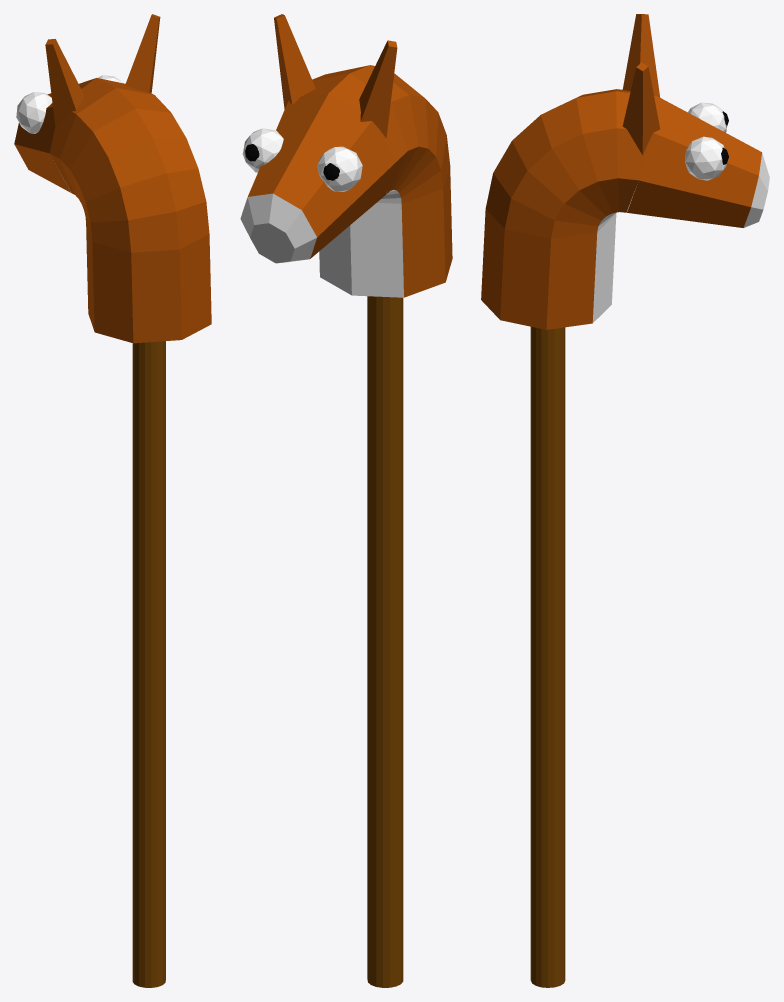
File: HobbyHorse.fbx
The picture shows the model from 3 angles, left to right: view 1: azimuth 30°, elevation 25°; view 2: azimuth 150°, elevation 25°; view 3: azimuth 270°, elevation 25°; orthographic projection. The views are drawn at different scales.
Visible parts, largest first — view 1: Neck, Handle, Ears, Head, Eyes; view 2: Handle, Neck, Head, OffColorParts, Ears, Eyes; view 3: Neck, Handle, Head, Ears, OffColorParts, Eyes.
Boxes of the visible parts, box(x1,y1,x2,y2) form: Neck: box(49, 78, 211, 343); Handle: box(132, 341, 165, 987); Ears: box(45, 14, 160, 129); Head: box(14, 78, 95, 192); Eyes: box(16, 75, 122, 133); Handle: box(367, 296, 403, 987); Neck: box(301, 65, 452, 297); Head: box(248, 93, 396, 258); OffColorParts: box(240, 189, 403, 297); Ears: box(274, 14, 397, 138); Eyes: box(242, 128, 362, 191); Neck: box(481, 89, 655, 329); Handle: box(530, 327, 565, 987); Head: box(627, 96, 761, 227); Ears: box(622, 14, 660, 155); OffColorParts: box(592, 153, 769, 322); Eyes: box(685, 102, 726, 180).
Bounding box in the file's own units: 394 × 3012 × 837.
